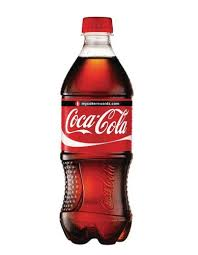coke-bottle-300ml: (52, 6, 143, 244)
